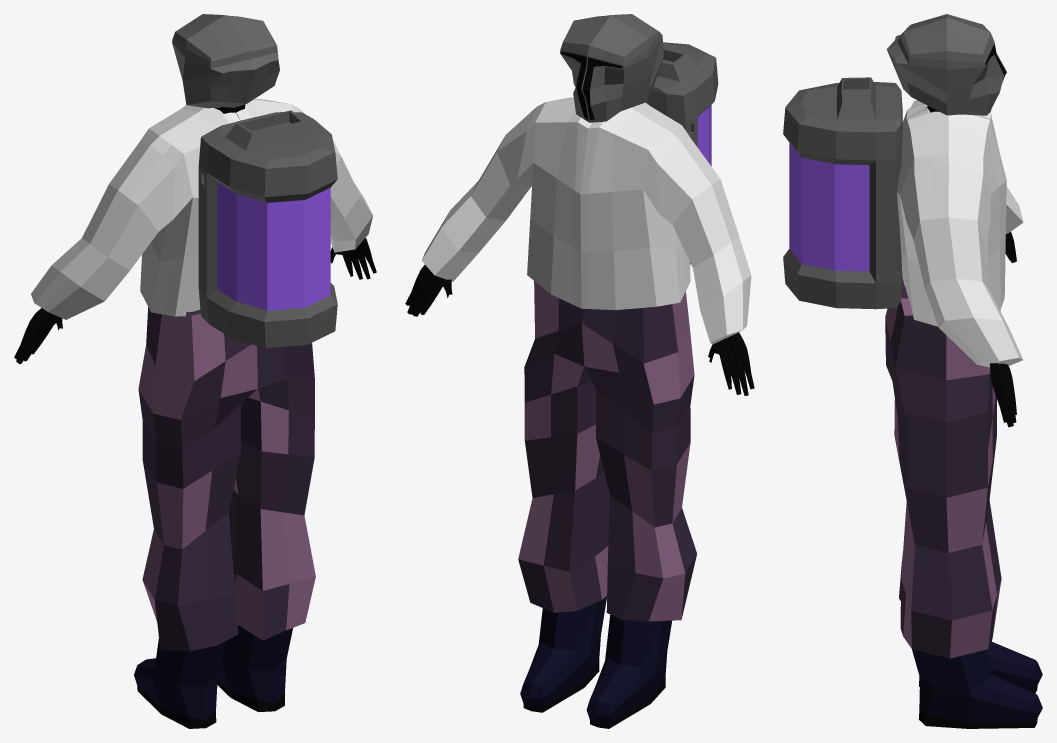
Rendered from CooperNewHand4.fbx.
3 views of the same model, side by side, from view 1: azimuth 30°, elevation 25°; view 2: azimuth 150°, elevation 25°; view 3: azimuth 270°, elevation 25° (orthographic). The views are drawn at different scales.
Visible parts, largest first — view 1: Cube.002; view 2: Cube.002; view 3: Cube.002.
Boxes of the visible parts, x1,y1,x2,y2 form: Cube.002: (14, 14, 376, 728); Cube.002: (405, 14, 754, 728); Cube.002: (783, 14, 1042, 728).
Bounding box in the file's own units: 660 × 1217 × 416.
